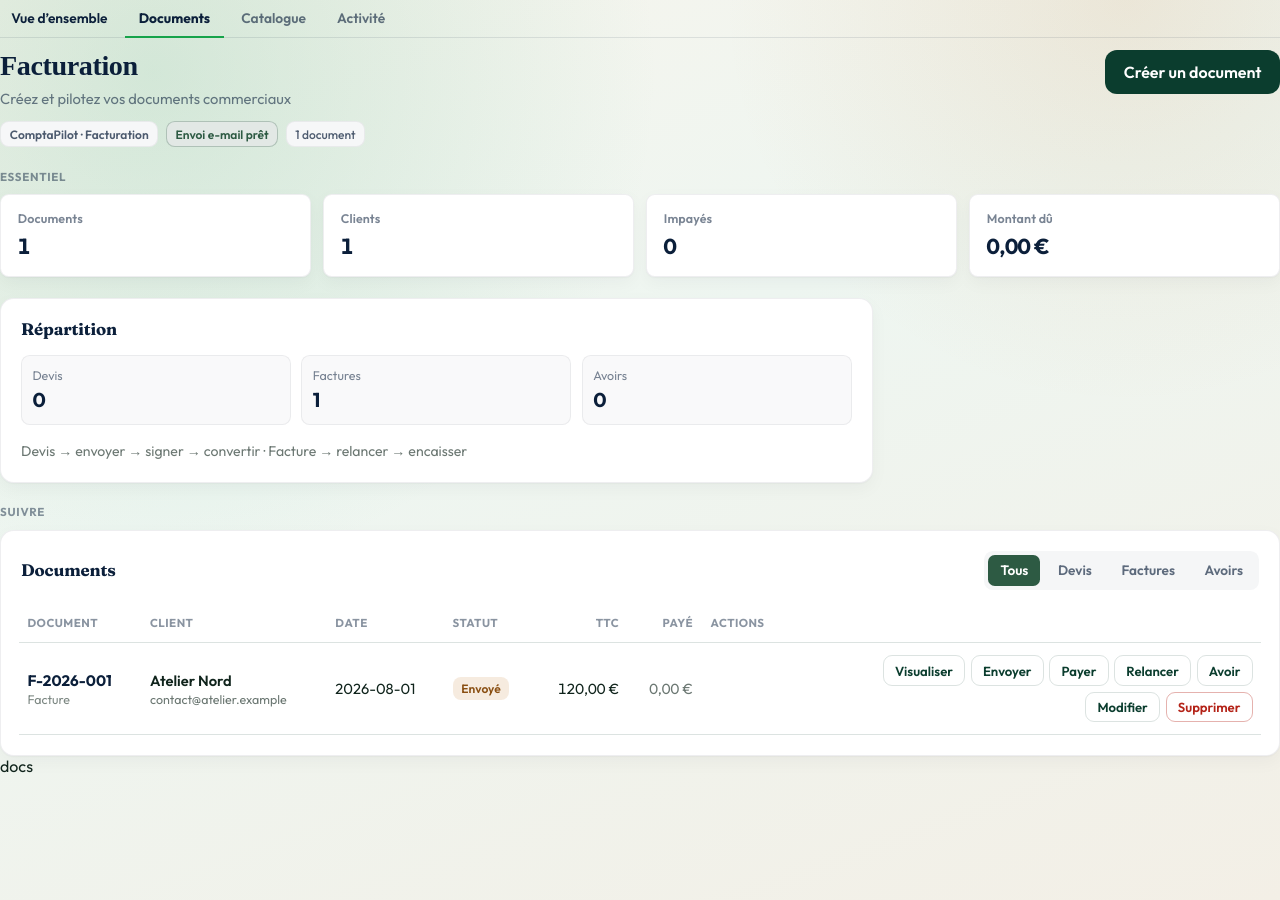
it: MC11–MC20 Flux type → composer › MC11 — bouton Créer ouvre pop-in type
This screenshot has width=1280, height=900.
Click the button "Créer un document" at (1193, 72), box [1105,50,1279,94]
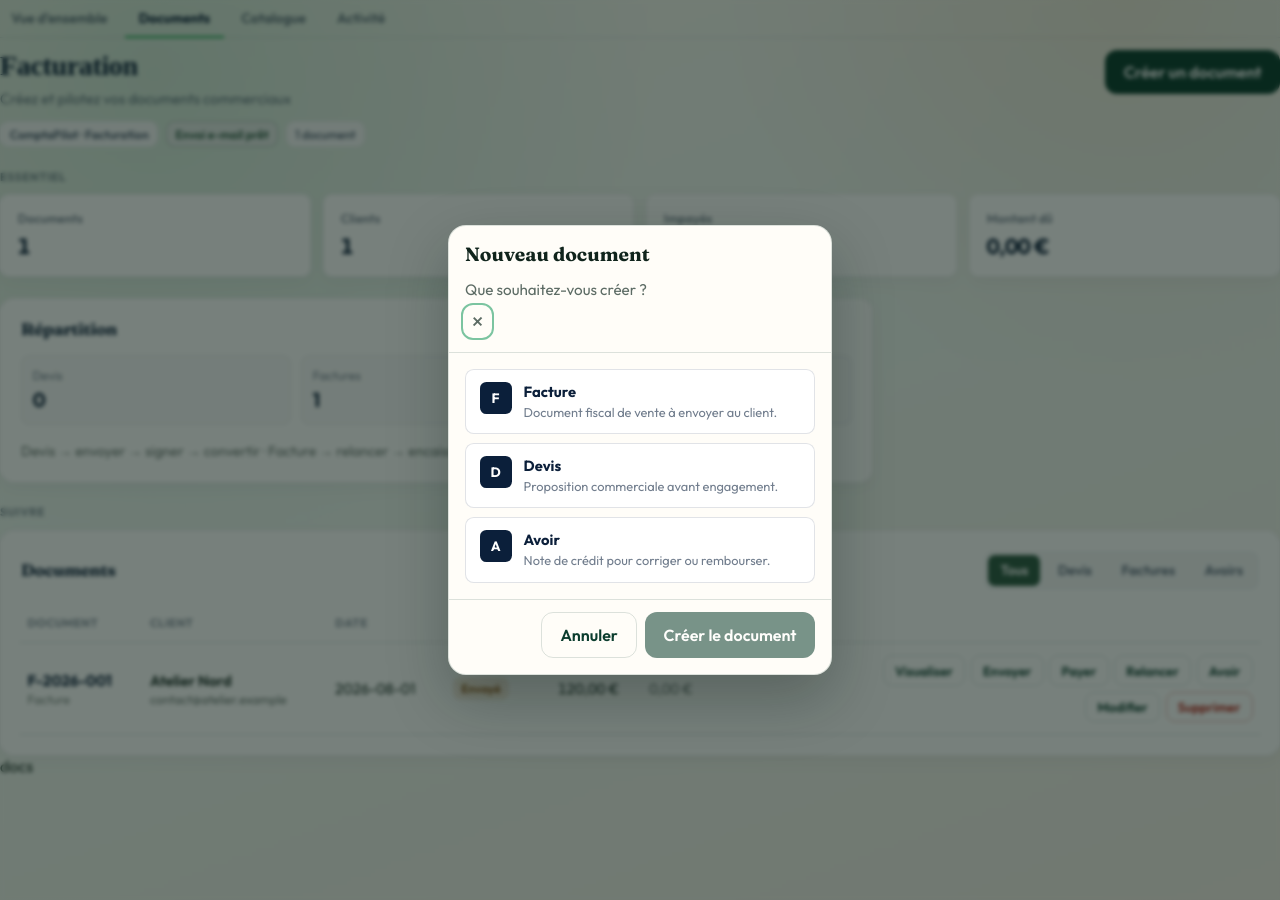
Expected: the heading "Nouveau document" is shown, [465,242,682,266]
